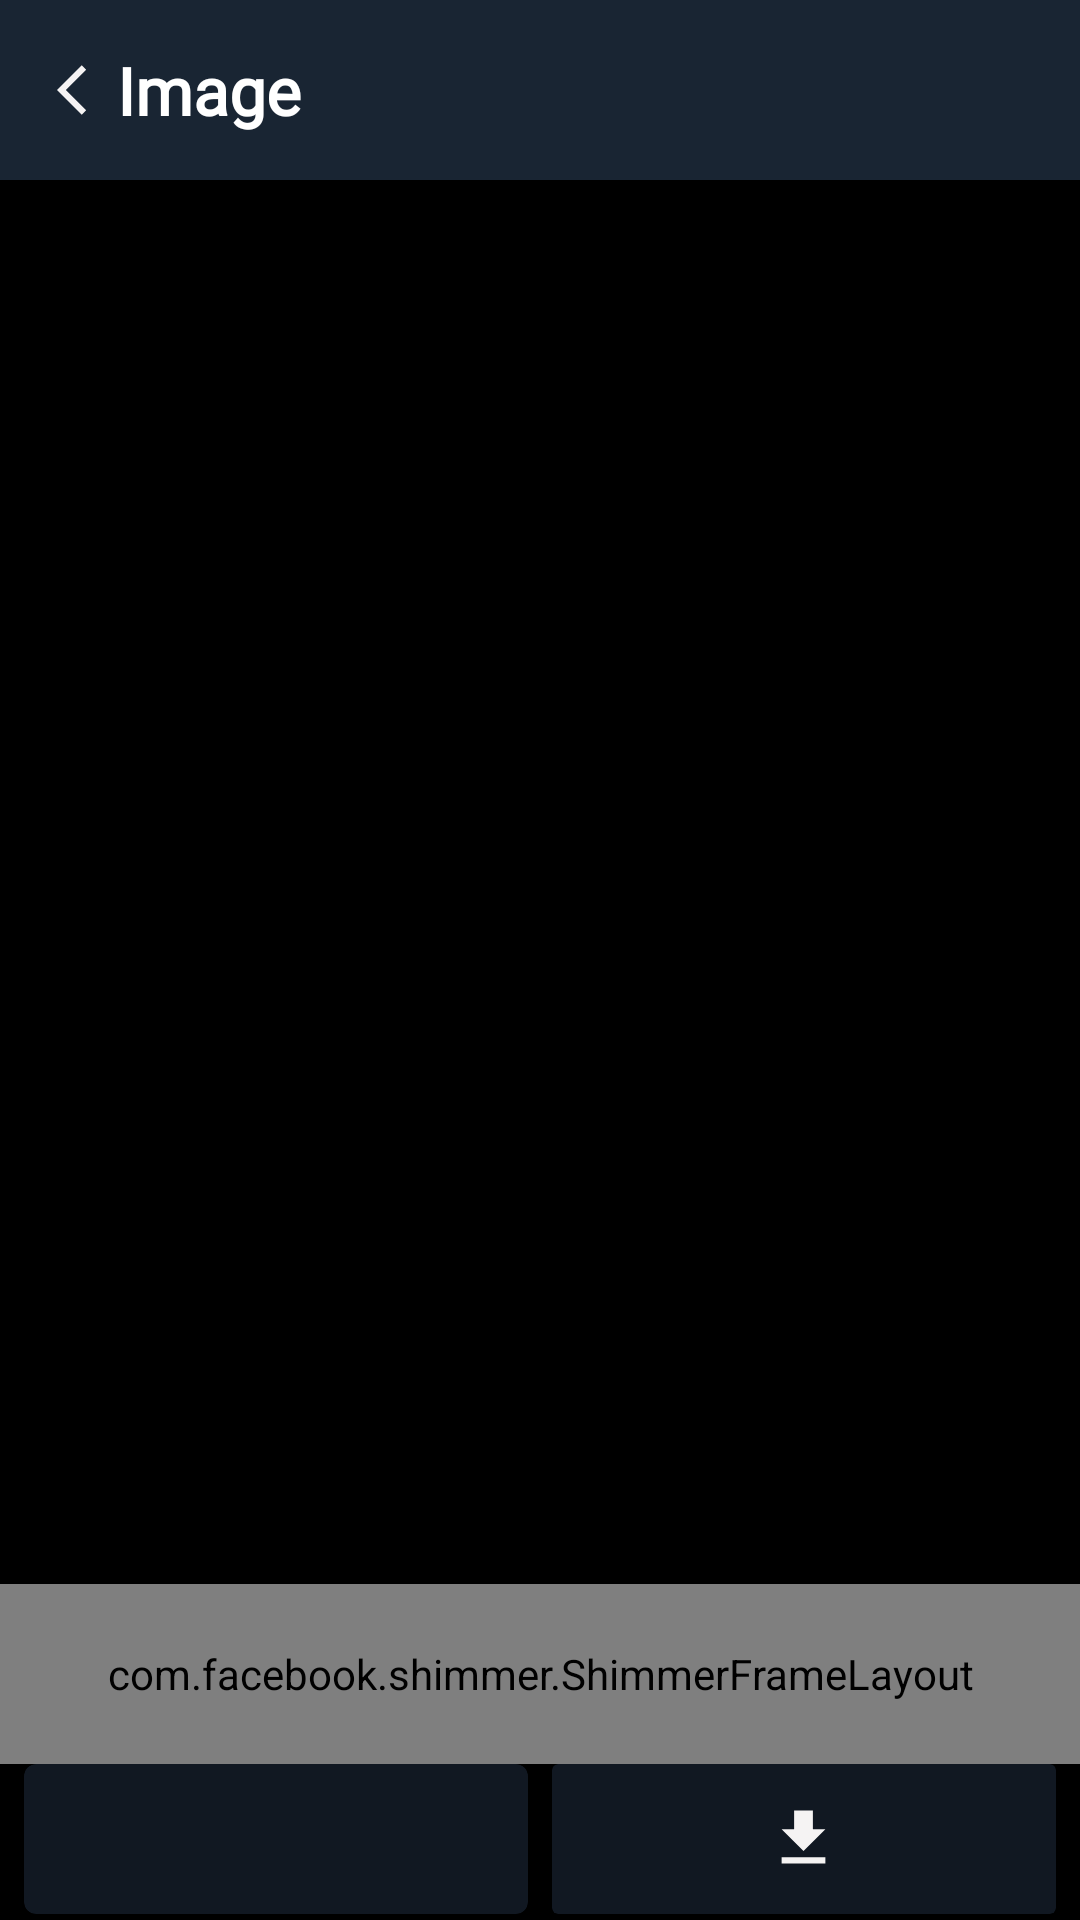

Icon click points for this 1080x1920 phone screenshot, format point (x, y):
arrow back: point (71, 90)
download: point (803, 1837)
